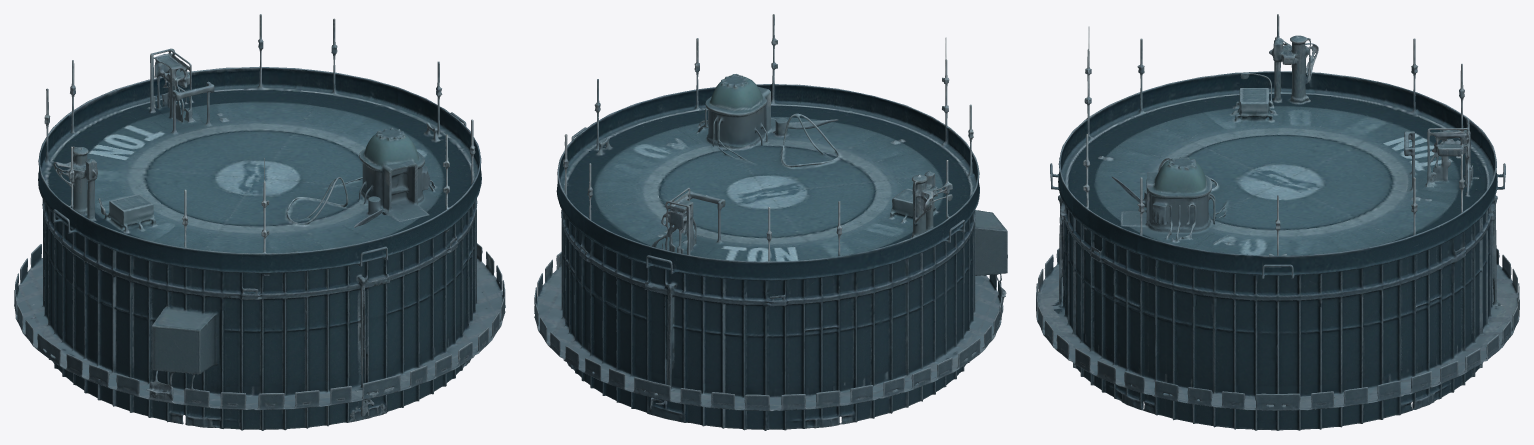
Rendered from Meshy_AI_Create_a_detailed_3D__0912195758_texture.glb.
The picture shows the model from 3 angles, left to right: view 1: azimuth 30°, elevation 25°; view 2: azimuth 150°, elevation 25°; view 3: azimuth 270°, elevation 25°; orthographic projection. The views are drawn at different scales.
Size of the model in its own units: 1.9 by 1.17 by 1.9.
1 material, 1 textured.
